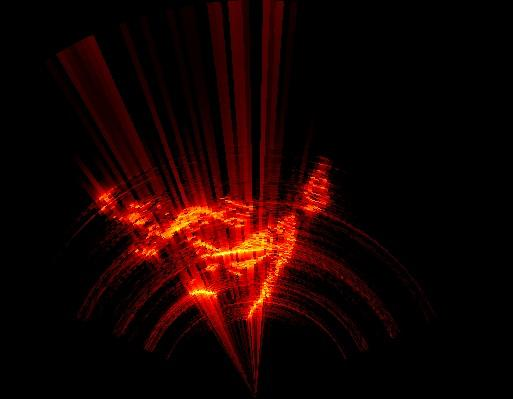shipwreck: (90, 166, 331, 311)
